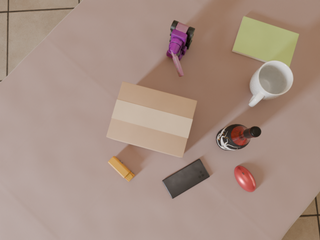book: (232, 16, 299, 67)
bottle: (216, 124, 261, 150)
box: (107, 82, 197, 157)
cup: (249, 60, 293, 107)
mouse: (234, 166, 256, 192)
phone: (162, 159, 210, 199)
toy_car: (167, 20, 195, 77), (108, 156, 135, 181)
